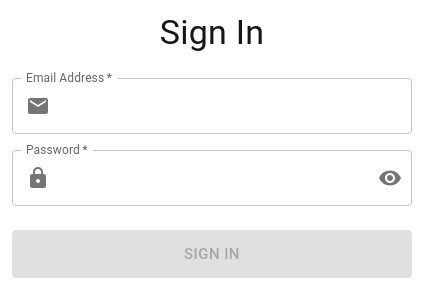
EmailAuthForm › Password Visibility Toggle › should toggle password visibility
The image size is (429, 295).
Click the button named "Show password" at (390, 178), box [370,158,410,198]
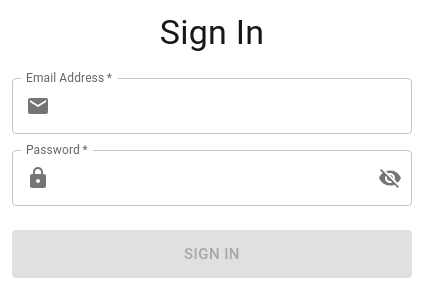
Now the button named "Hide password" is shown
Click the button named "Hide password" at (390, 178), box [370,158,410,198]
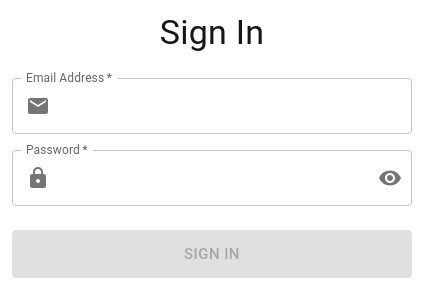
Now the button named "Show password" is shown, box [370,158,410,198]
